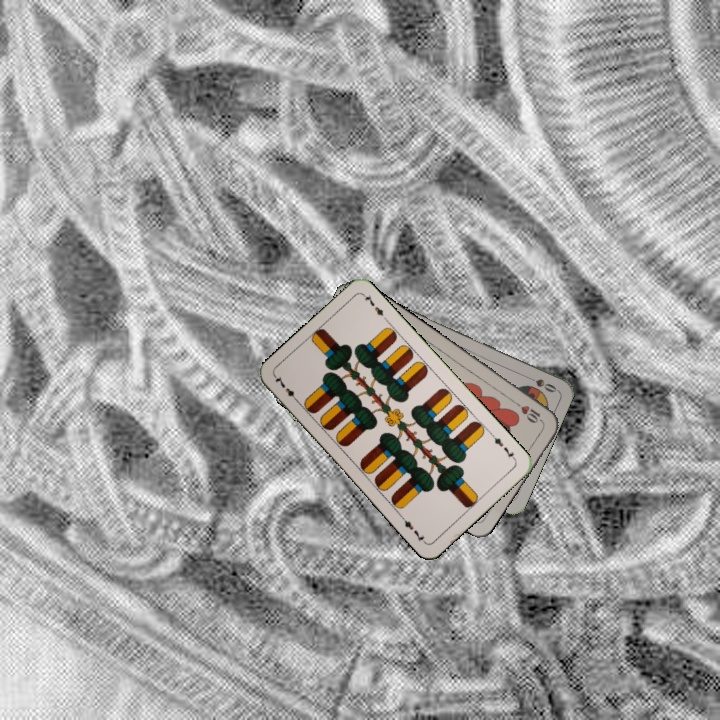E7: (271, 372, 302, 406), (487, 430, 518, 463)
H10: (510, 397, 546, 426)
SO: (521, 371, 559, 395)
